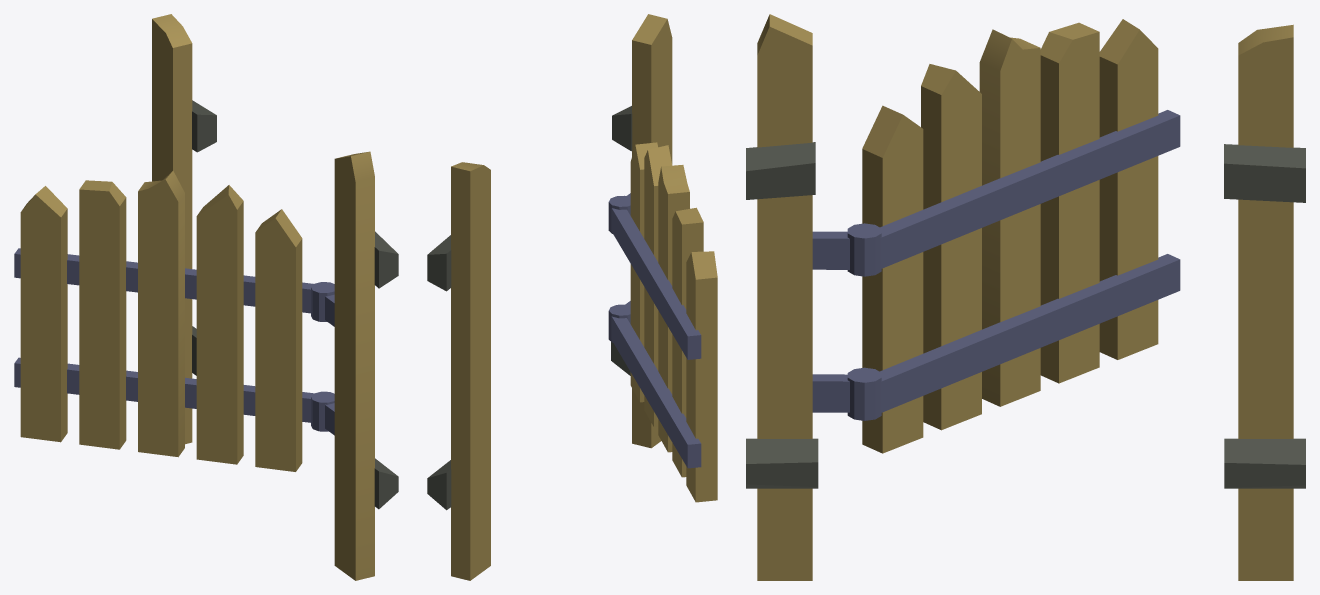
File: Fence_Door.fbx
3 renders of one model, left to right at view 1: azimuth 30°, elevation 25°; view 2: azimuth 150°, elevation 25°; view 3: azimuth 270°, elevation 25°, orthographic. The views are drawn at different scales.
Visible parts, largest first — view 1: Cube.004, Cube.002, Cube.006, Cube.003, Cube.007, Cube.005; view 2: Cube.002, Cube.004, Cube.006, Cube.003, Cube.007; view 3: Cube.004, Cube.002, Cube.006, Cube.003, Cube.007, Cube.005.
Part boxes in pixels (left/top/right/bottom): Cube.004: left=20, top=170, right=302, bottom=471; Cube.002: left=152, top=14, right=374, bottom=580; Cube.006: left=14, top=248, right=313, bottom=422; Cube.003: left=192, top=100, right=398, bottom=509; Cube.007: left=311, top=282, right=334, bottom=431; Cube.005: left=325, top=294, right=334, bottom=435; Cube.002: left=451, top=14, right=672, bottom=580; Cube.004: left=630, top=142, right=717, bottom=502; Cube.006: left=611, top=208, right=701, bottom=468; Cube.003: left=427, top=106, right=632, bottom=510; Cube.007: left=608, top=195, right=630, bottom=342; Cube.004: left=862, top=19, right=1158, bottom=453; Cube.002: left=757, top=14, right=1293, bottom=580; Cube.006: left=880, top=110, right=1180, bottom=412; Cube.003: left=746, top=142, right=1305, bottom=488; Cube.007: left=847, top=223, right=881, bottom=420; Cube.005: left=812, top=231, right=849, bottom=412.
Size of the model in its own units: 124 by 219 by 200.
